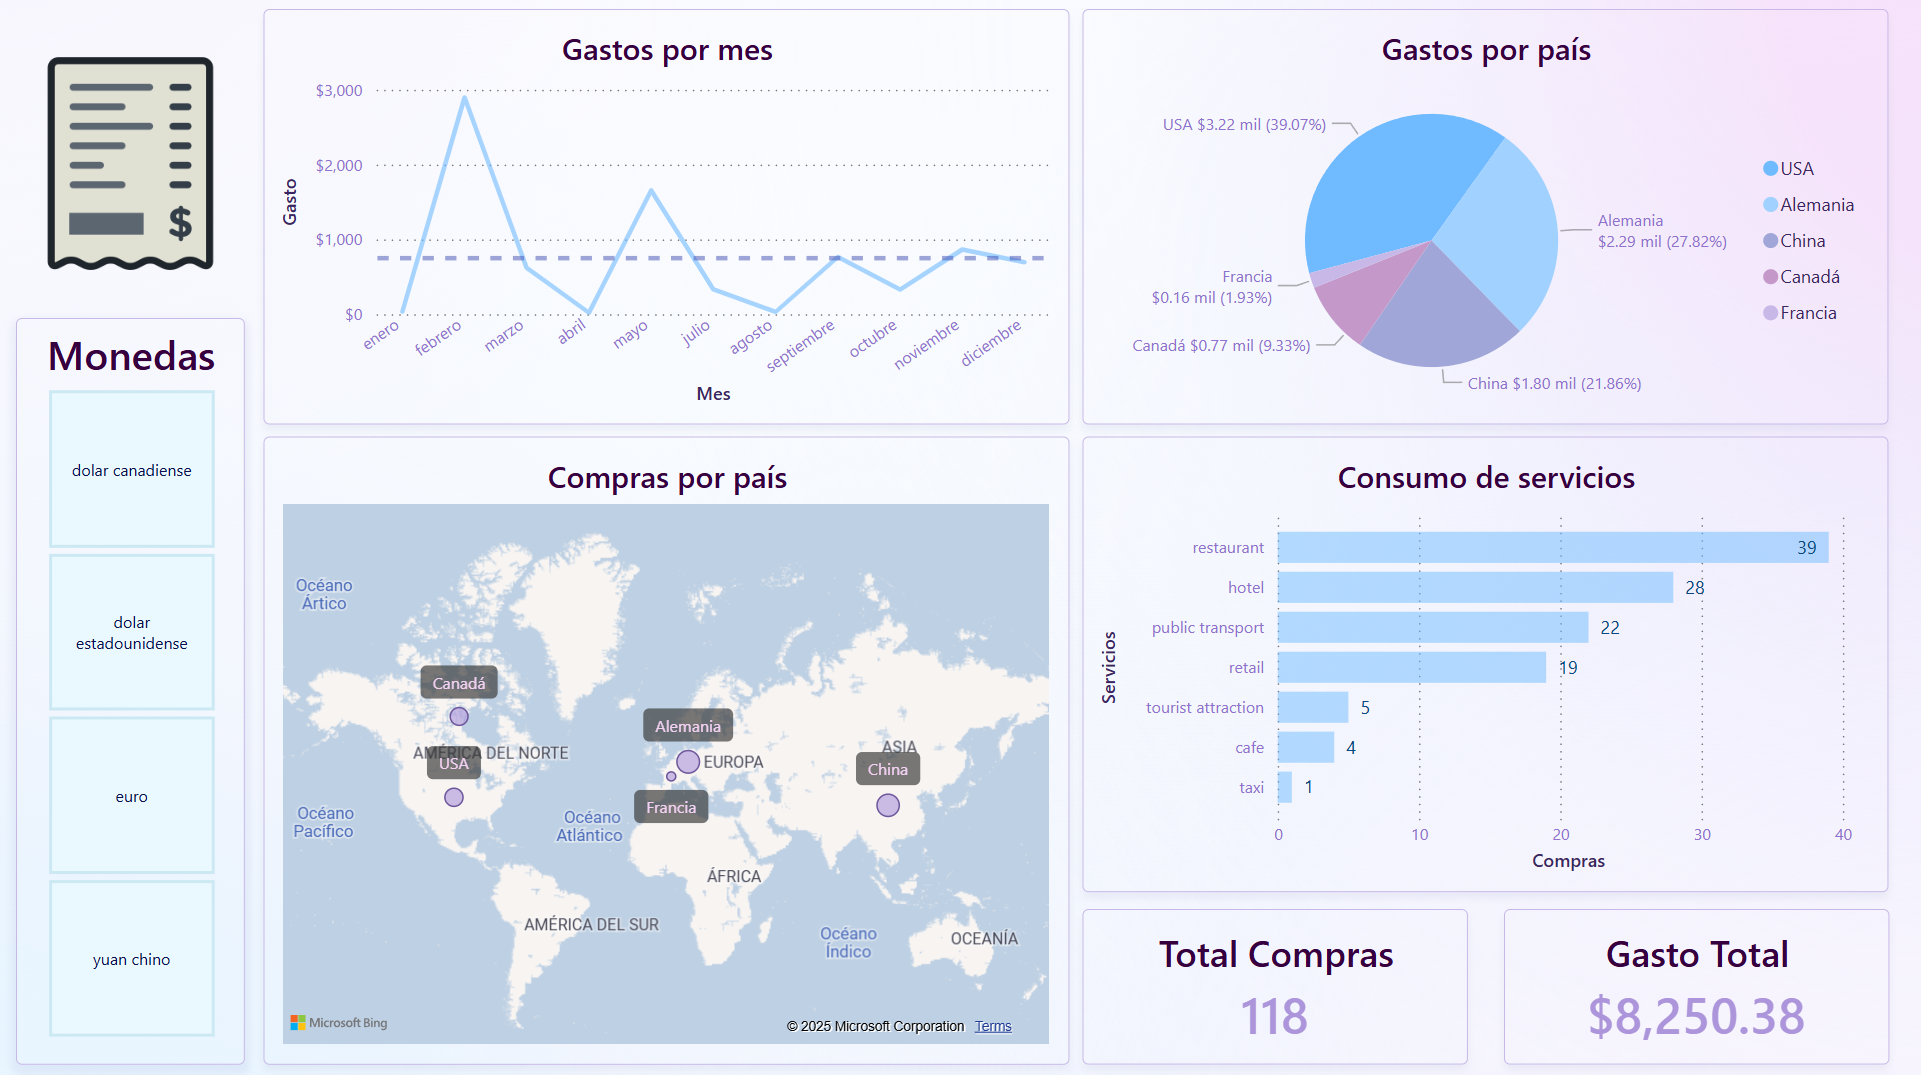

Layout of this report page (visuals, bound fields, positions):
{"tool":"powerbi","page":{"name":"Informe Recibos","canvas":[1280,720],"ordinal":0},"visuals":[{"type":"pieChart","title":"Gastos por país","fields":{"Y":["Sum(recibos.valor USD)"],"Category":["recibos.pais"],"Series":["recibos.pais"]},"box":[720.7,8.1,535.3,275.8],"z":0},{"type":"lineChart","title":"Gastos por mes","fields":{"Category":["recibos.fecha.Variación.Jerarquía de fechas.Mes"],"Y":["Sum(recibos.valor USD)"]},"box":[176.1,8.1,535.3,275.8],"z":1000},{"type":"card","title":"Gasto Total","fields":{"Values":["Sum(recibos.valor USD)"]},"box":[1000,606,256.1,103.1],"z":2000},{"type":"clusteredBarChart","title":"Consumo de servicios","fields":{"Category":["recibos.servicio"],"Y":["Sum(recibos.conceptos)"]},"box":[720.7,292,535.3,302.4],"z":3000},{"type":"card","title":"Total Compras","fields":{"Values":["Sum(recibos.conceptos)"]},"box":[720.7,606,256.1,103.1],"z":4000},{"type":"map","title":"Compras por país","fields":{"Category":["recibos.pais"],"Size":["Sum(recibos.conceptos)"]},"box":[176.1,292,535.3,417.1],"z":5000},{"type":"slicer","title":"Monedas","fields":{"Values":["recibos.moneda"]},"box":[11.6,213.2,151.8,495.9],"z":6000},{"type":"image","box":[11.6,8.1,151.8,205.1],"z":7000}]}

Visuals, with their boxes in screenshot pixels (x1, y1, x2, y2), scaled from the page's 1280x720 canvas onto the 1921x1075 screenshot:
"Gastos por país" pieChart: select_region(1082, 12, 1885, 424)
"Gastos por mes" lineChart: select_region(264, 12, 1068, 424)
"Gasto Total" card: select_region(1501, 905, 1885, 1059)
"Consumo de servicios" clusteredBarChart: select_region(1082, 436, 1885, 887)
"Total Compras" card: select_region(1082, 905, 1466, 1059)
"Compras por país" map: select_region(264, 436, 1068, 1059)
"Monedas" slicer: select_region(17, 318, 245, 1059)
image: select_region(17, 12, 245, 318)
